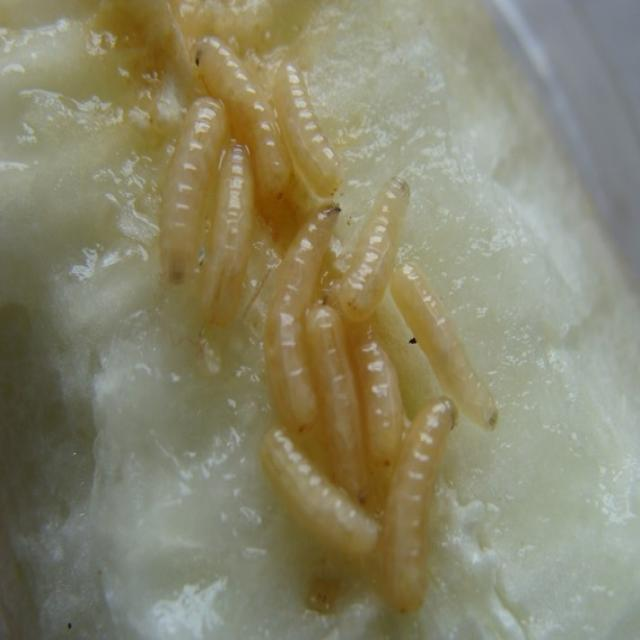Fruit fly: (148, 22, 527, 637)
